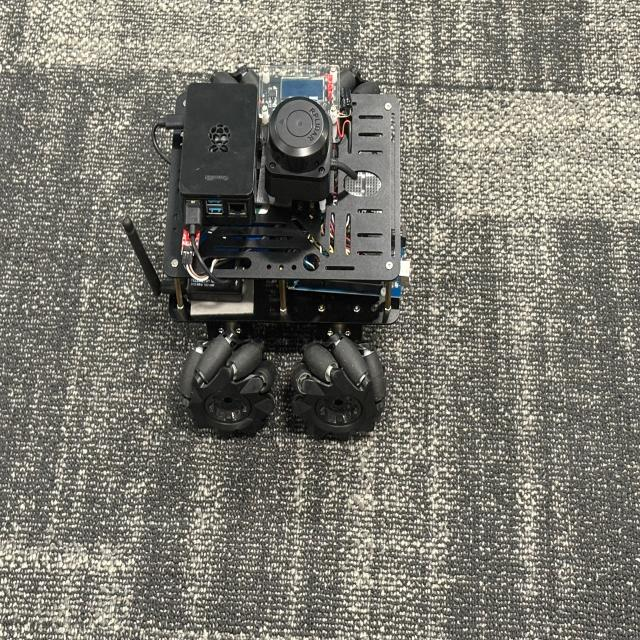ArduinoCar3: (141, 59, 408, 446)
